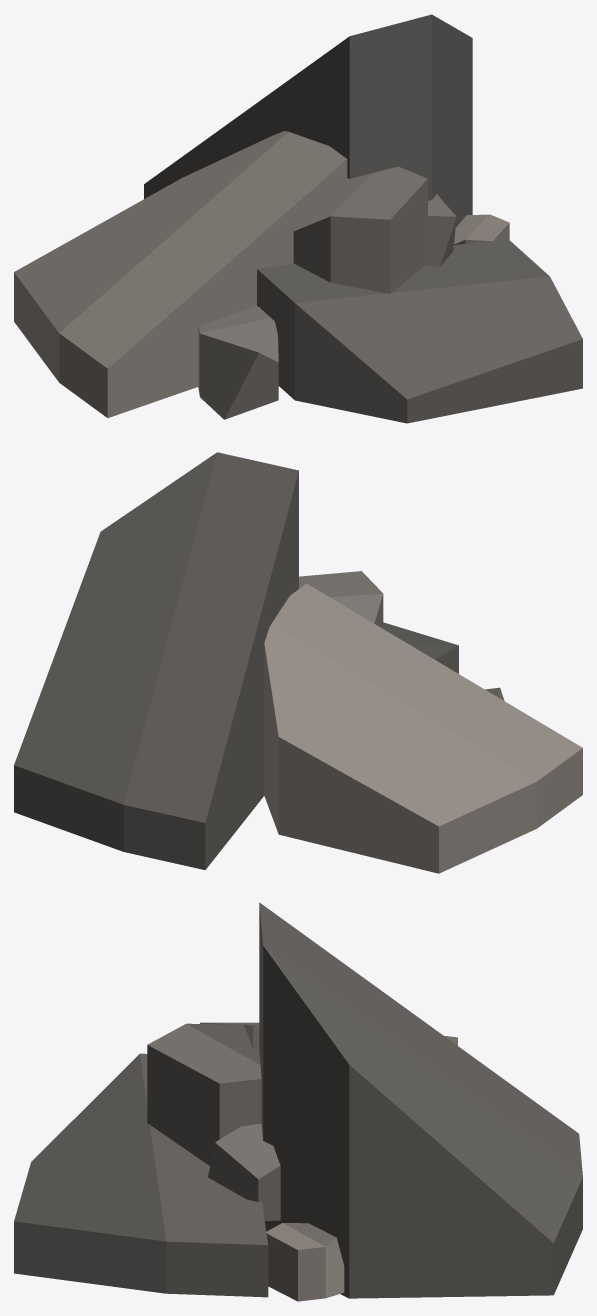
File: shatteredrock2.fbx
3 renders of one model, top to bottom at view 1: azimuth 30°, elevation 25°; view 2: azimuth 150°, elevation 25°; view 3: azimuth 270°, elevation 25°, orthographic. The views are drawn at different scales.
Visible parts, largest first — view 1: ShatteredRock2; view 2: ShatteredRock2; view 3: ShatteredRock2.
Part boxes in pixels (box(x1,y1,x2,y2)): ShatteredRock2: box(14, 14, 582, 423); ShatteredRock2: box(14, 452, 582, 873); ShatteredRock2: box(14, 902, 582, 1301).
Bounding box in the file's own units: 2.26 × 1.44 × 2.36.
